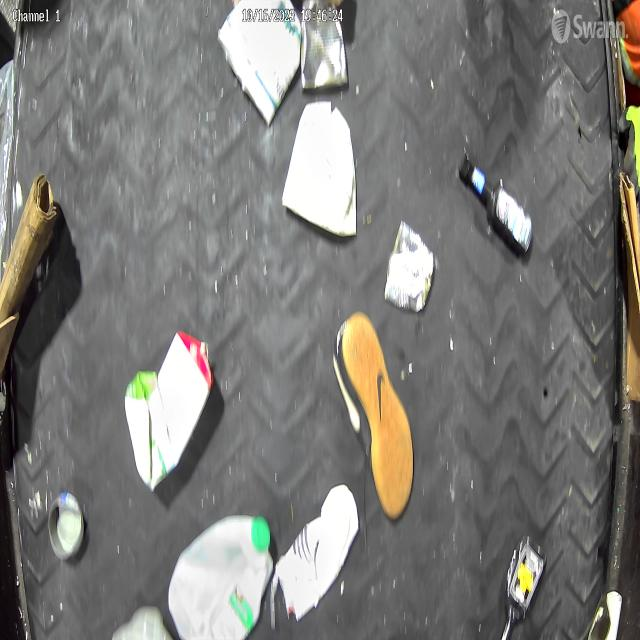can: (384, 216, 435, 313), (301, 0, 349, 92), (49, 491, 86, 561)
milk_jug: (166, 513, 274, 640)
non_white_jug: (123, 329, 215, 493)
